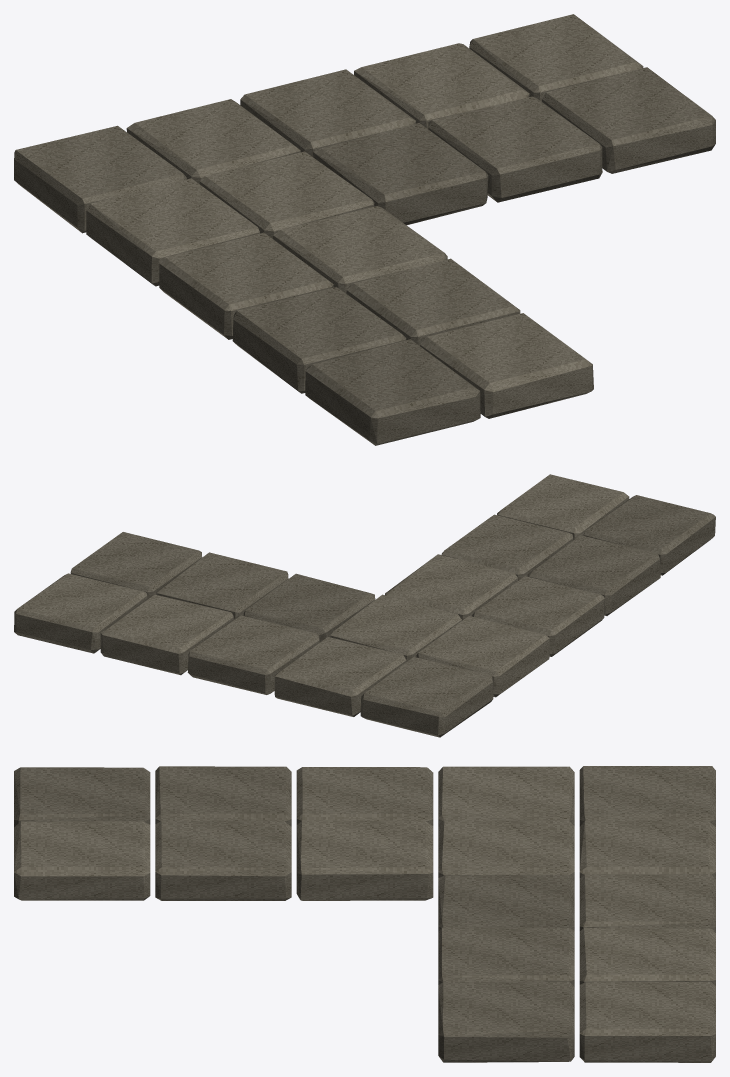
Rendered from env_ruin_surfaces_04_courtyard_corner.glb.
The picture shows the model from 3 angles, top to bottom: view 1: azimuth 30°, elevation 25°; view 2: azimuth 150°, elevation 25°; view 3: azimuth 270°, elevation 25°; orthographic projection. The views are drawn at different scales.
Size of the model in its own units: 1.79 by 0.105 by 1.99.
Materials: 1 (1 with a texture image).
